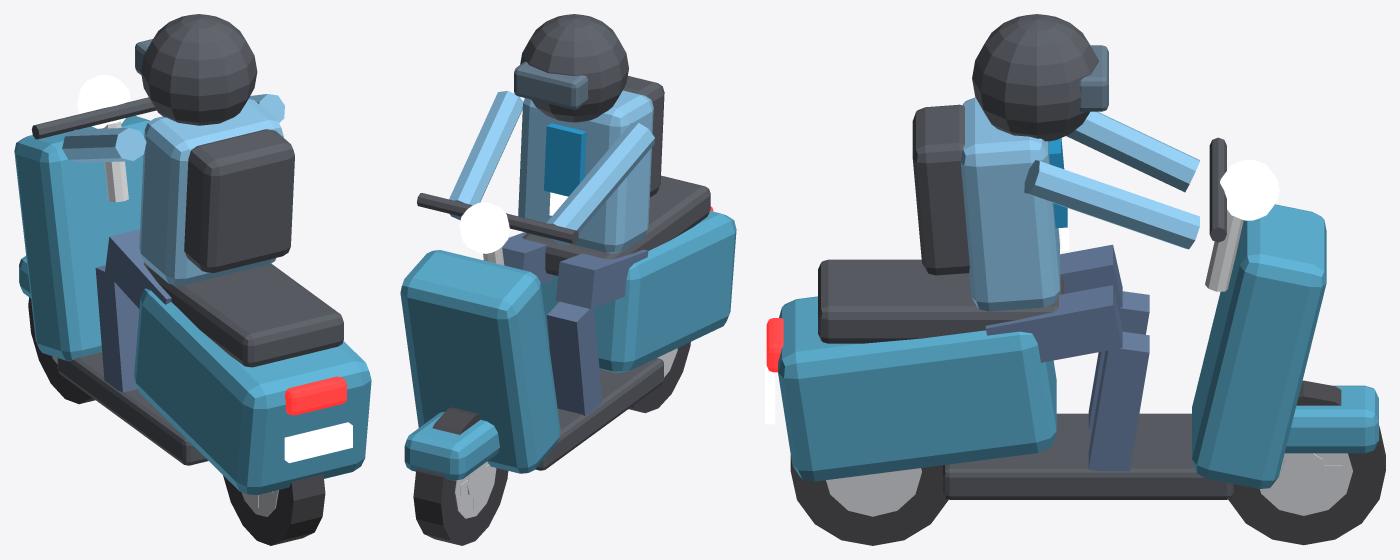
Rendered from commuter_techie.glb.
3 renders of one model, left to right at view 1: azimuth 30°, elevation 25°; view 2: azimuth 150°, elevation 25°; view 3: azimuth 270°, elevation 25°, orthographic. The views are drawn at different scales.
Parts seen in each view (by area): view 1: Scooter_Body.003, Wheel_Rear.003, Wheel_Front.004; view 2: Scooter_Body.003, Wheel_Front.004, Wheel_Rear.003; view 3: Scooter_Body.003, Wheel_Front.004, Wheel_Rear.003.
Boxes of the visible parts, bbox=[...] form: Scooter_Body.003: bbox=[14, 14, 371, 495]; Wheel_Rear.003: bbox=[223, 474, 325, 545]; Wheel_Front.004: bbox=[28, 297, 95, 404]; Scooter_Body.003: bbox=[400, 14, 736, 480]; Wheel_Front.004: bbox=[413, 407, 508, 545]; Wheel_Rear.003: bbox=[628, 342, 690, 413]; Scooter_Body.003: bbox=[765, 14, 1378, 499]; Wheel_Front.004: bbox=[1228, 380, 1385, 545]; Wheel_Rear.003: bbox=[790, 455, 948, 545].
Bounding box in the file's own units: 0.6397 × 1.67 × 1.81.
